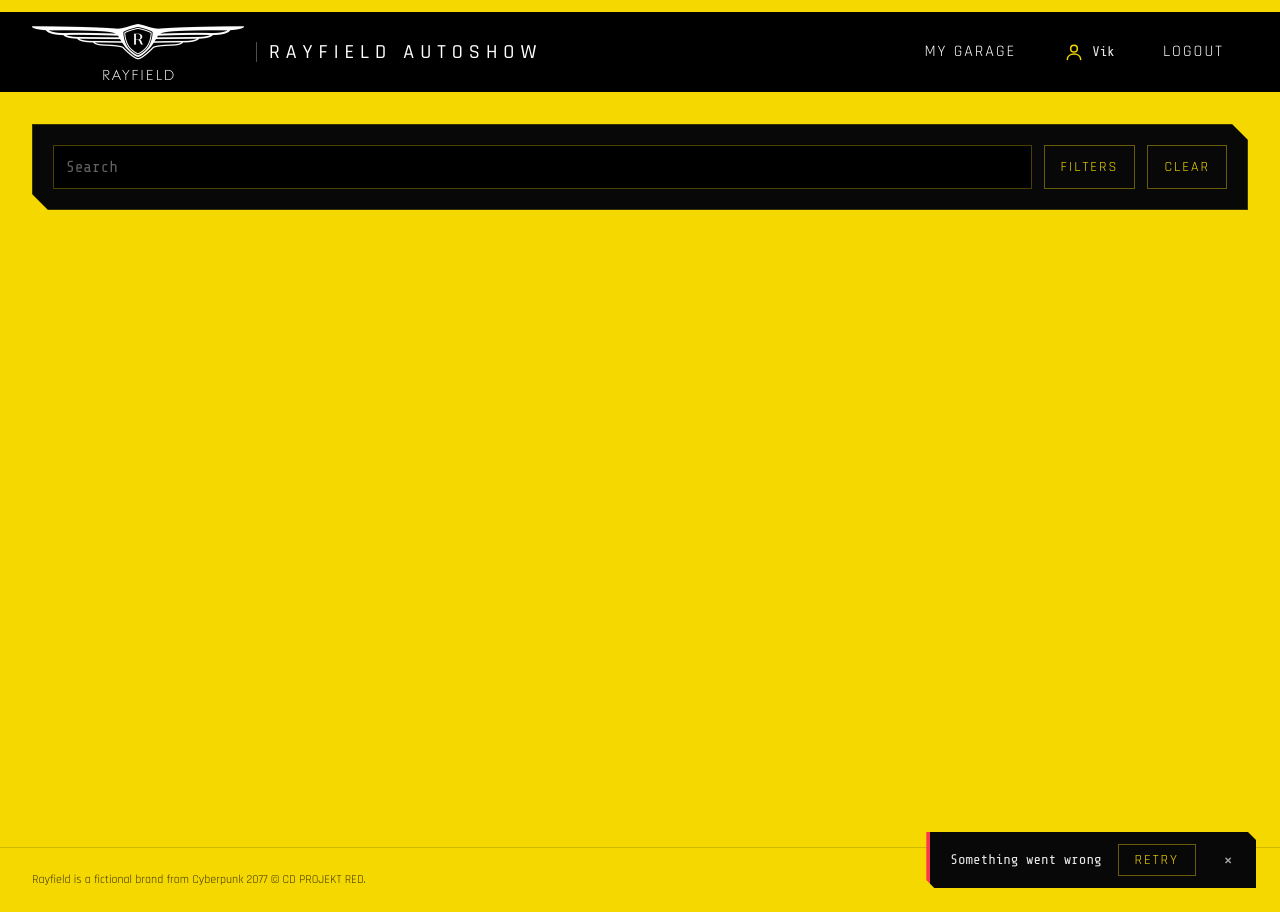
Test case: inventory page › the load-error toast closes too, without going back to loading
What coordinates should you click on to do the following:
click the button named "Dismiss"
I would click on:
 (1228, 860)
Its box is [1212,844,1244,876].
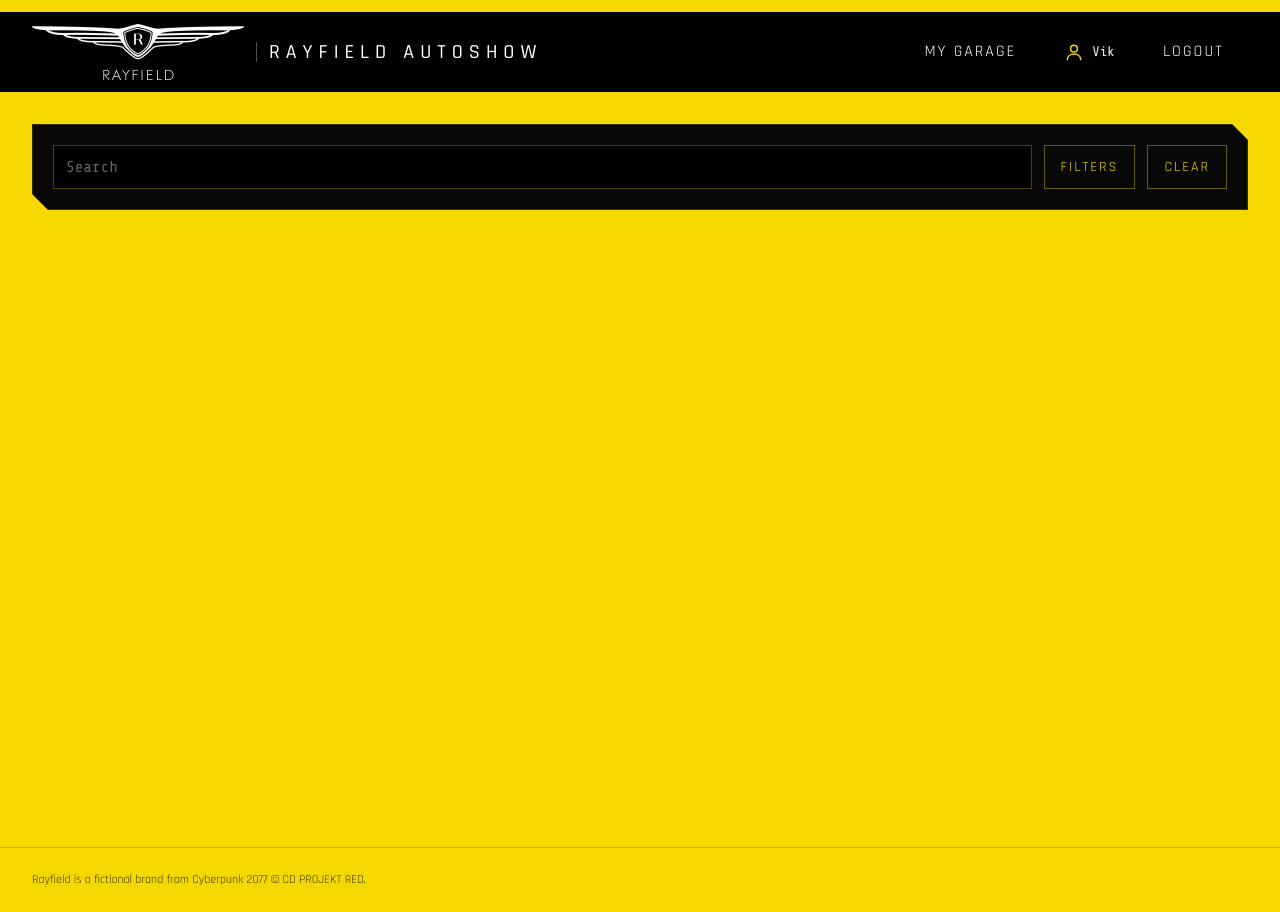
Check: the message "Something went wrong Retry ×" is gone
